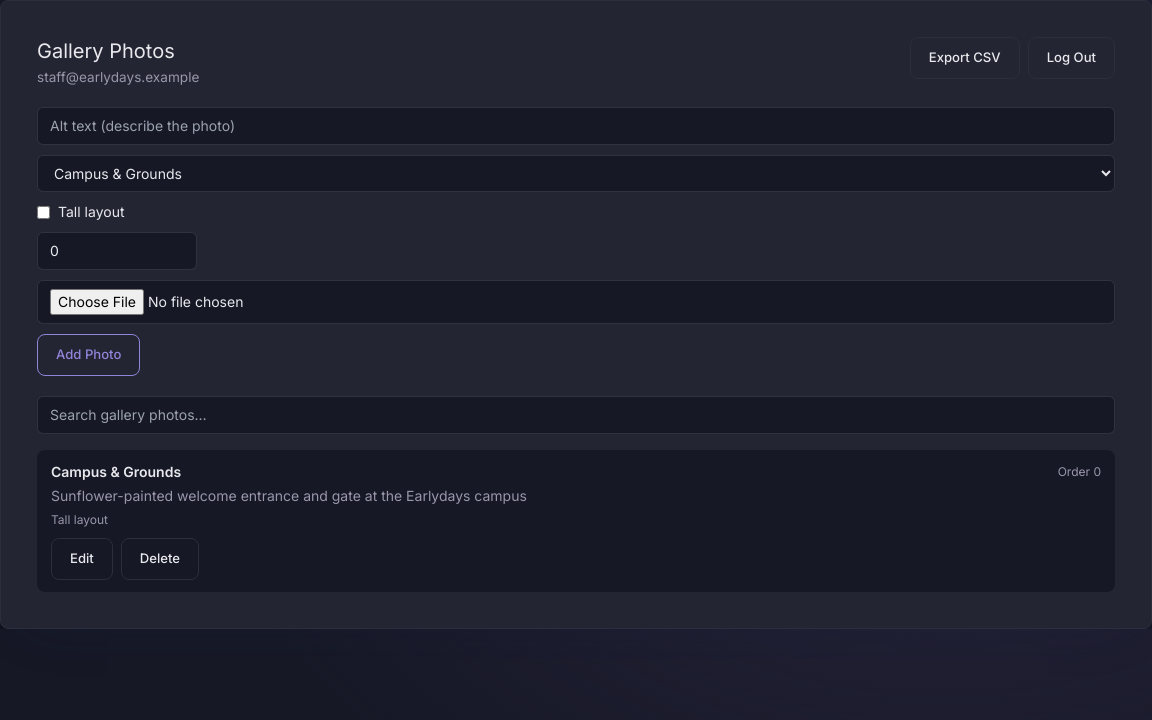
Scenario: AdminGalleryPanel › deletes a photo via the delete button
Expected: the text "Sunflower-painted welcome entrance and gate at the Earlydays campus" is shown, 51,487 -> 527,504
Click the button "Delete" at {"x": 160, "y": 559}, box 121,538 -> 199,580
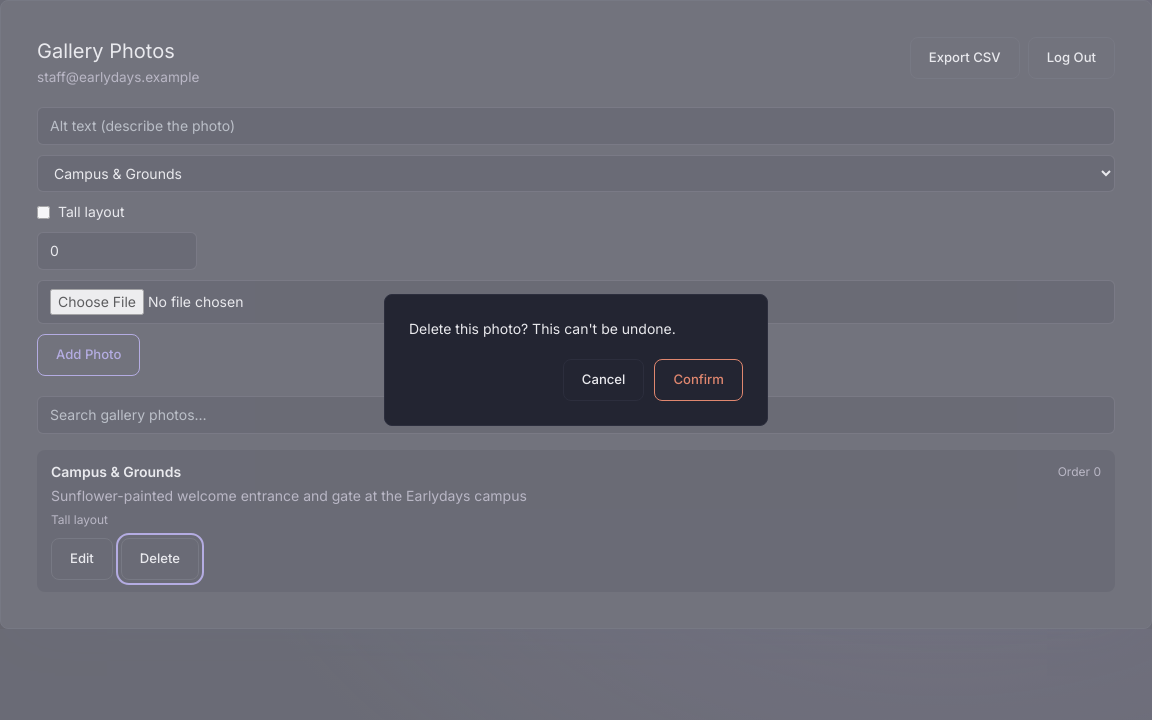
Click the button "Confirm" at {"x": 699, "y": 380}, box 654,359 -> 743,401
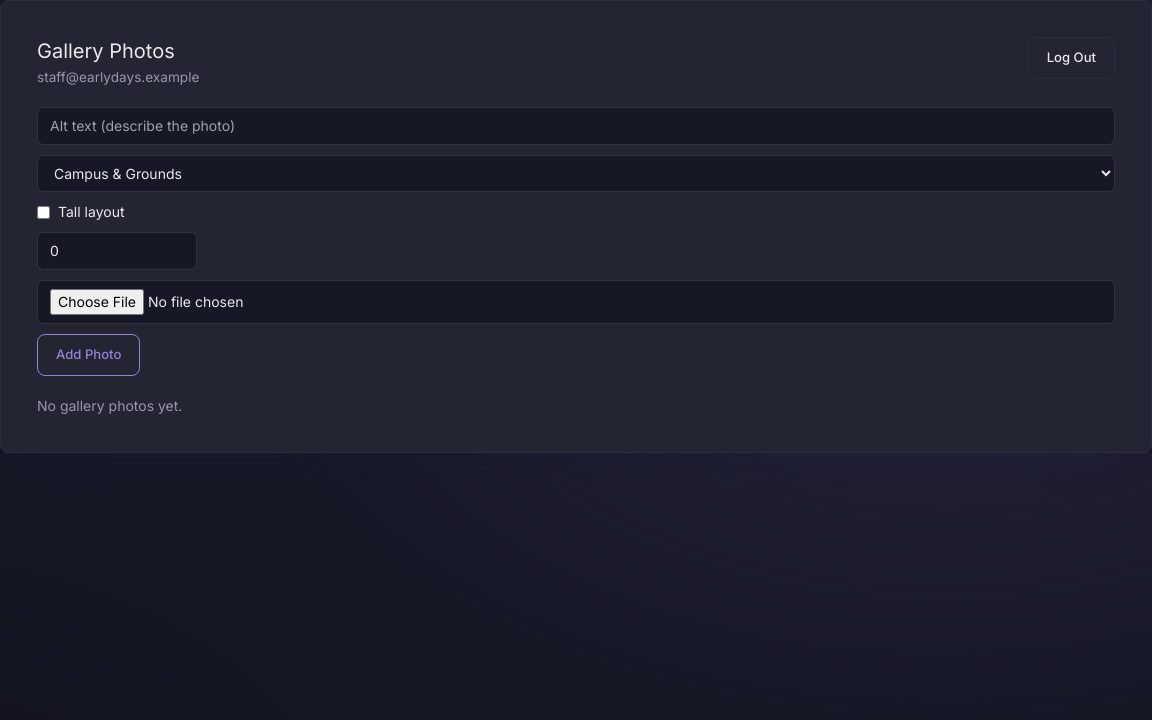
Now the text "Sunflower-painted welcome entrance and gate at the Earlydays campus" is gone
